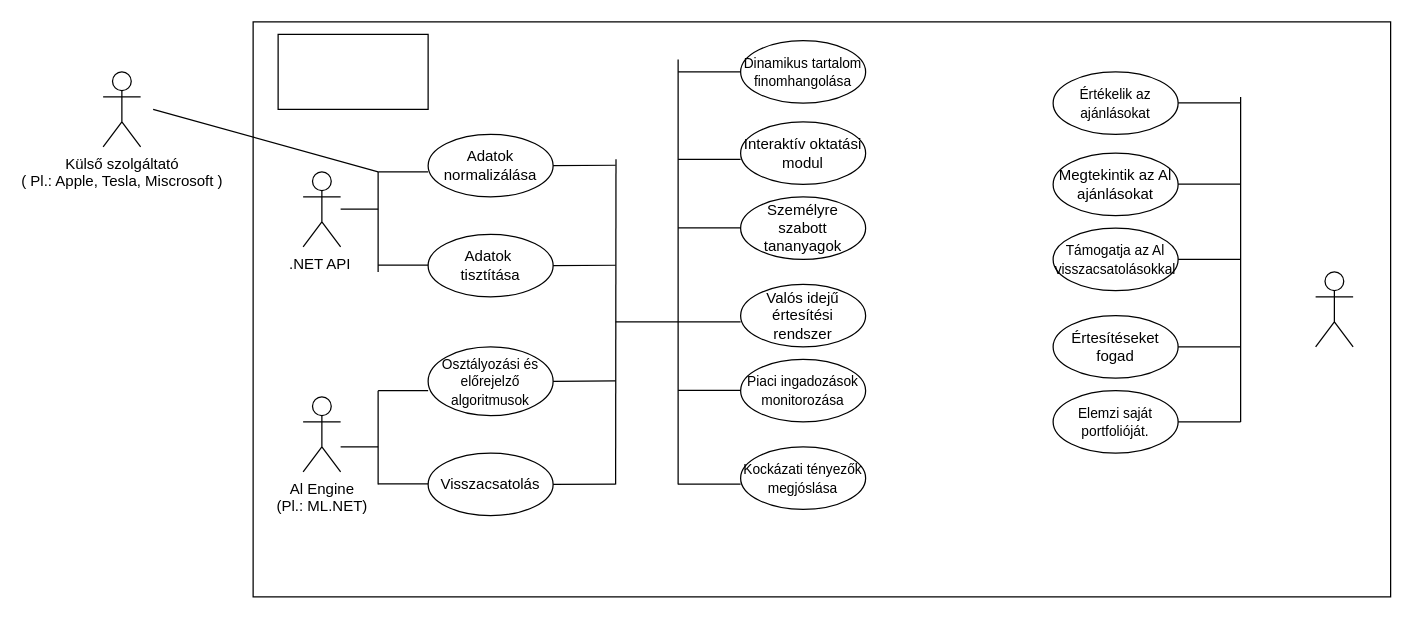
Image size: 1413x619. Some labels were removed from this diagram. The centre of each missing label's shape, as x and y in pixels:
"Felhasználók" belongs at (1333,309).
"Mesterséges Intelligencia rendszer" belongs at (352,71).
